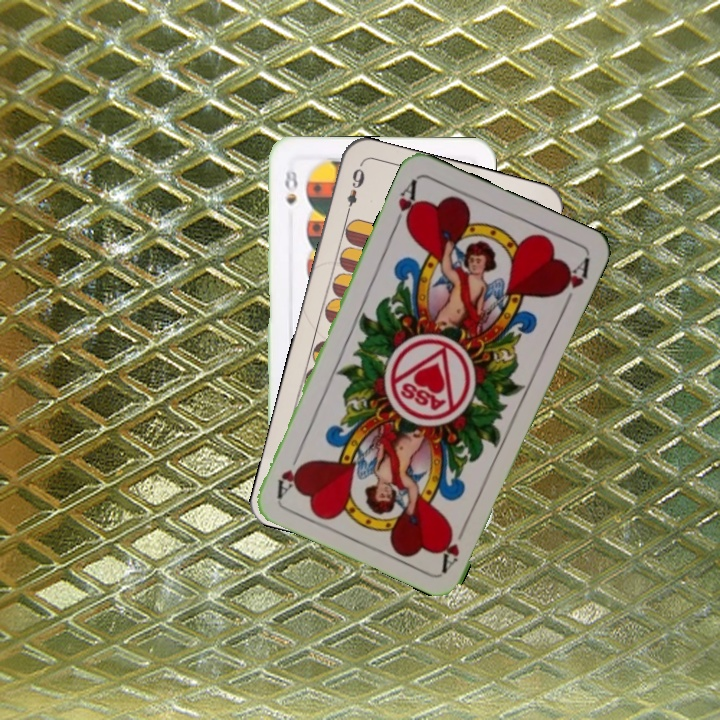E9: (341, 164, 368, 219)
HA: (437, 517, 471, 573), (389, 175, 422, 232)
S8: (281, 165, 301, 208)
